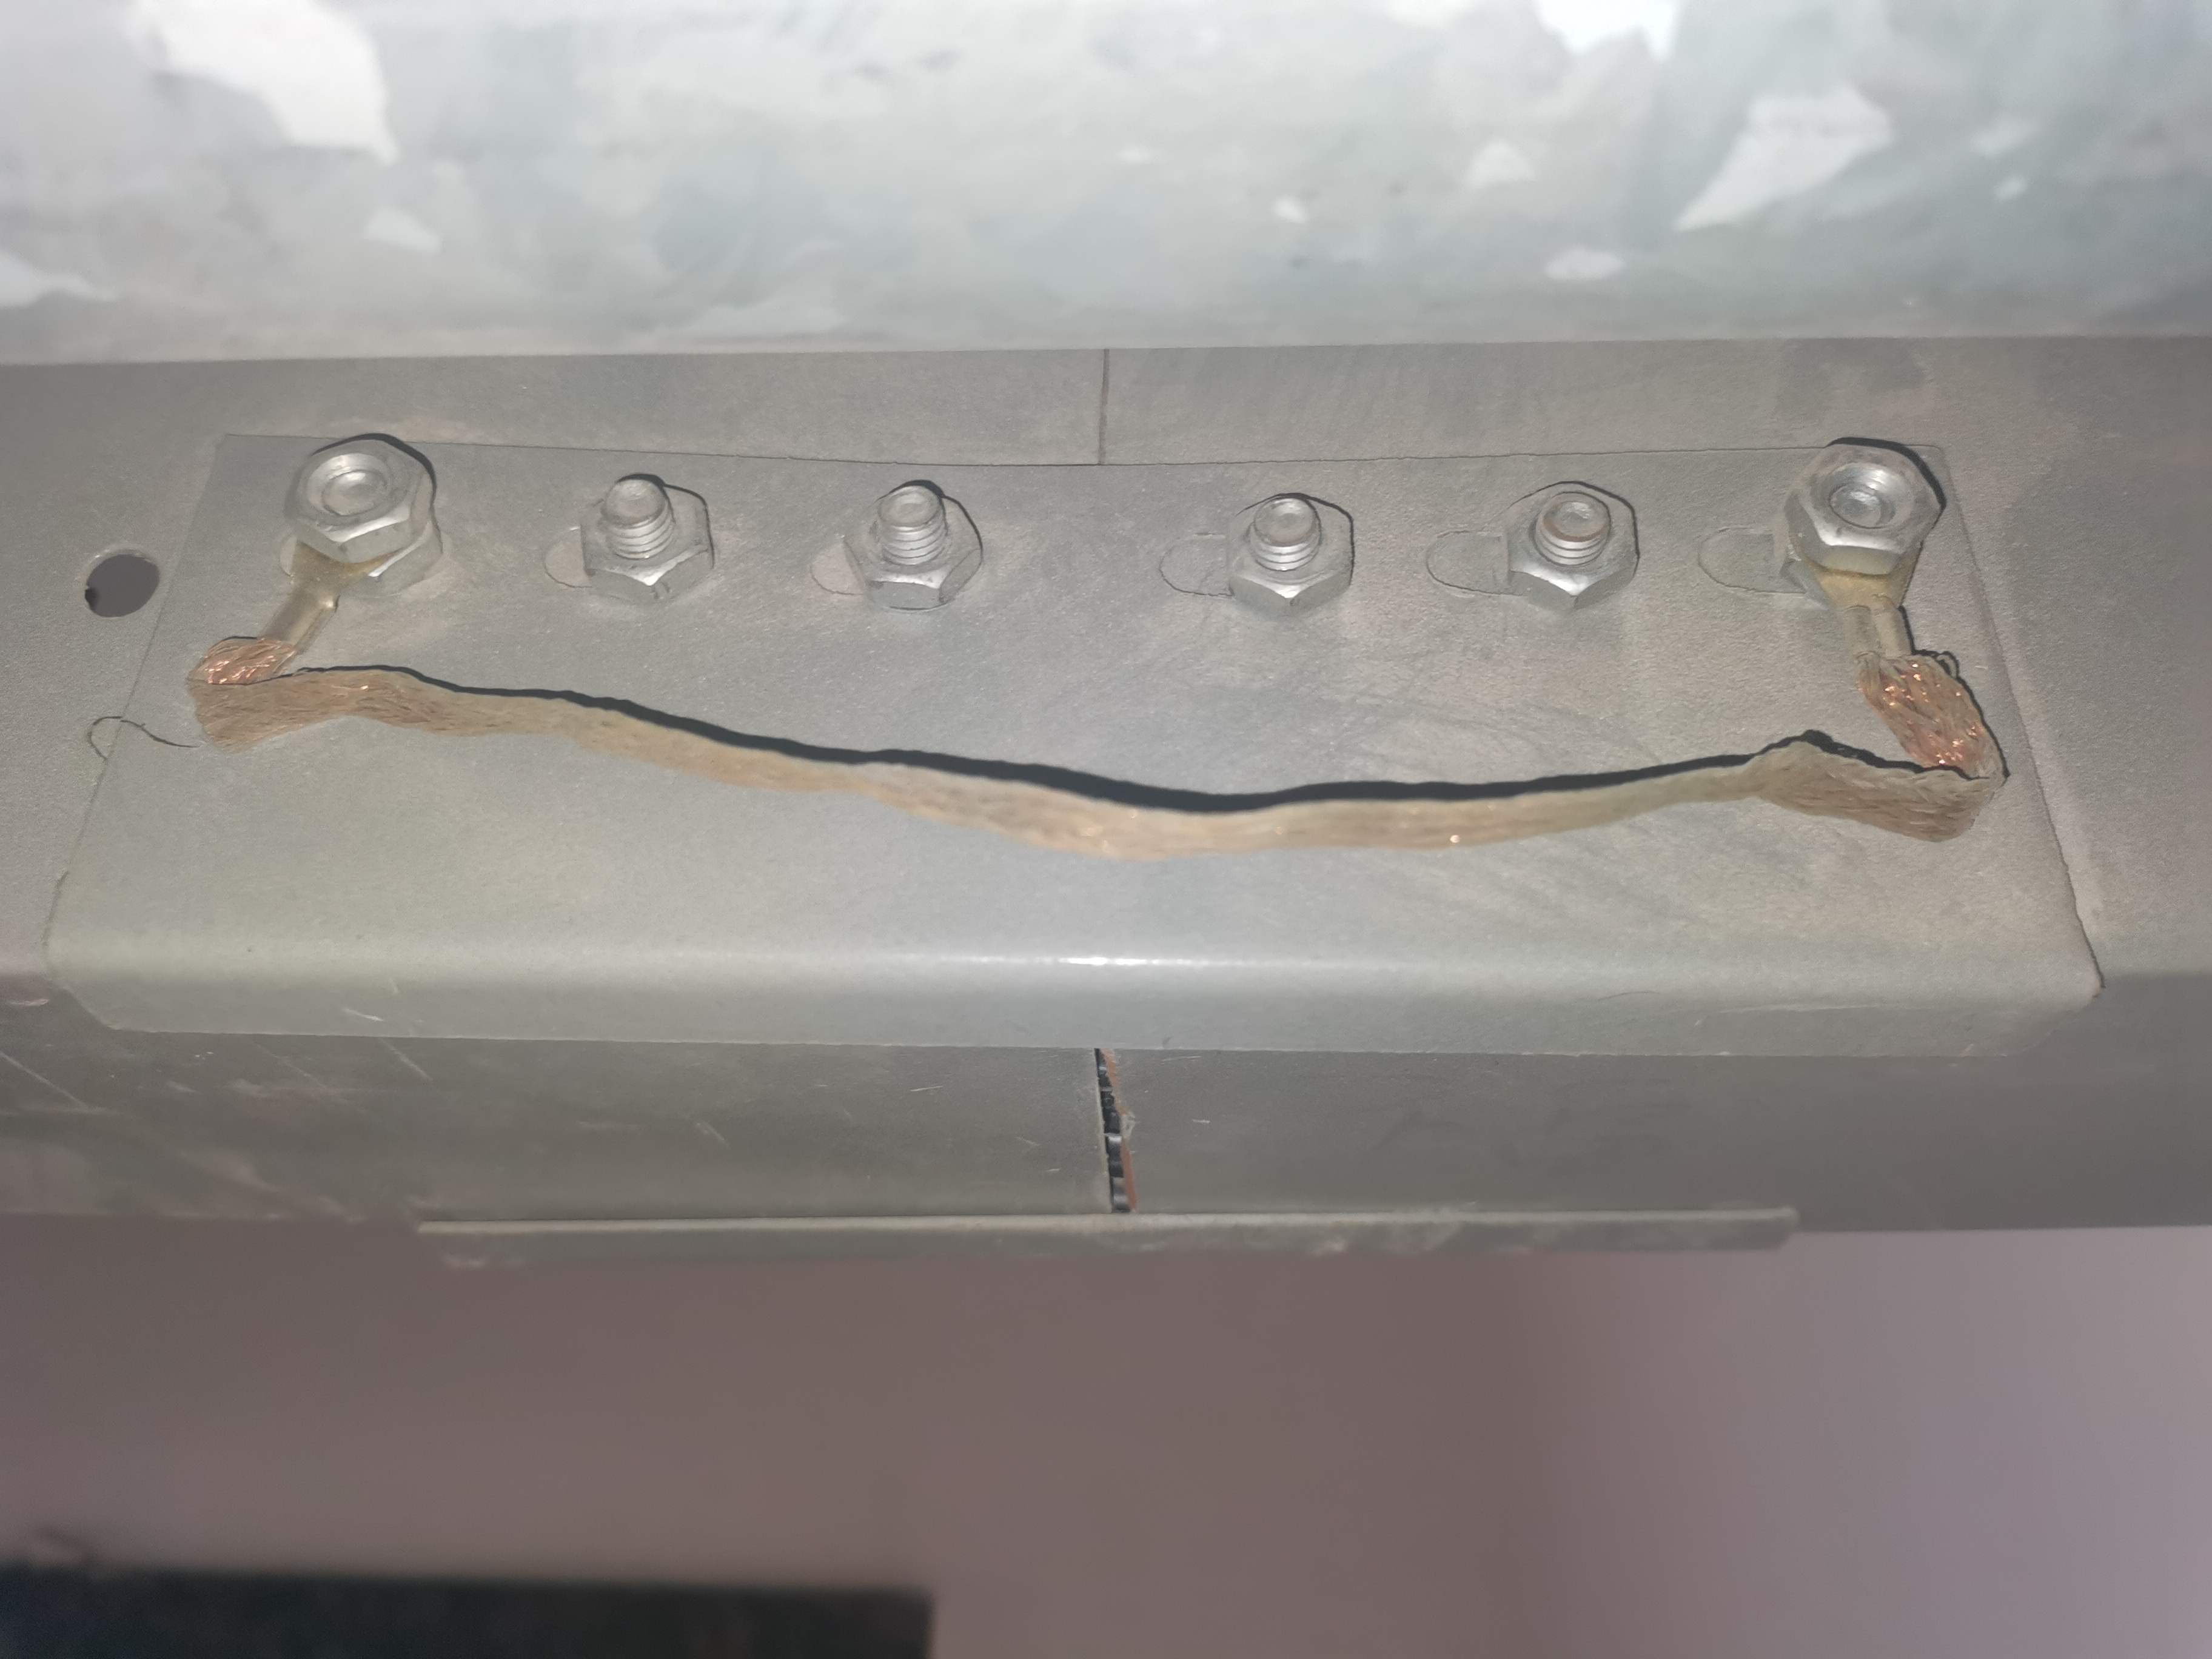bolt_b: (1778, 427, 1949, 584), (273, 425, 453, 570), (1491, 471, 1648, 620), (1216, 483, 1366, 631), (573, 472, 721, 613), (836, 483, 991, 613)
